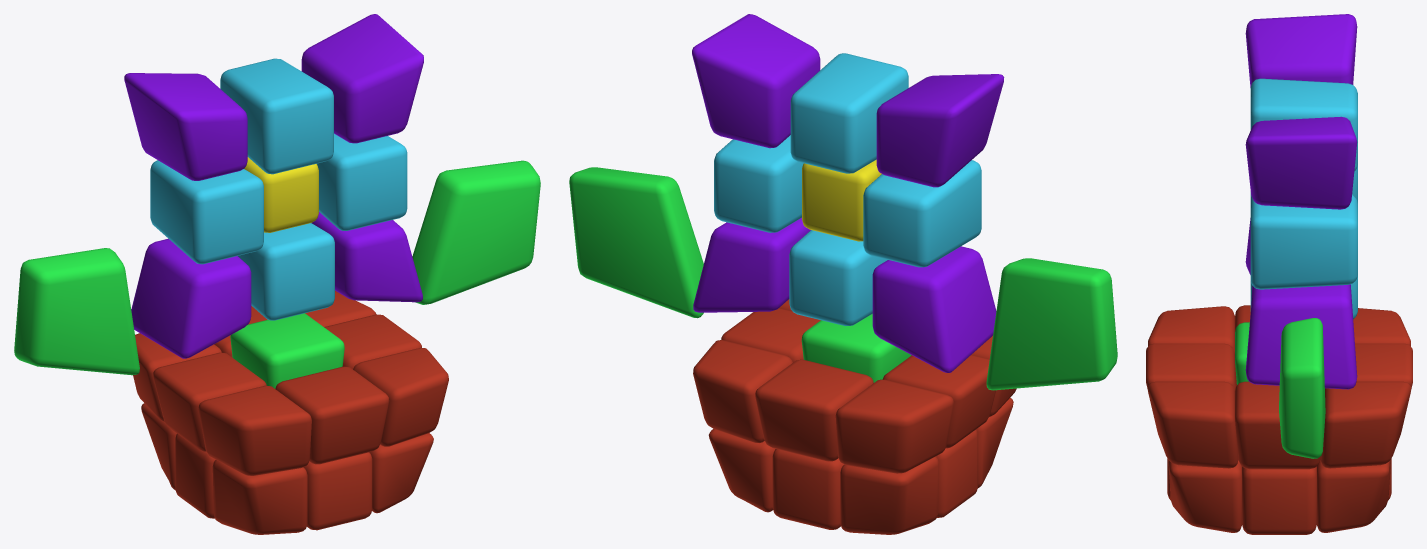
File: Flower1.fbx
3 views of the same model, side by side, from view 1: azimuth 30°, elevation 25°; view 2: azimuth 150°, elevation 25°; view 3: azimuth 270°, elevation 25° (orthographic). The views are drawn at different scales.
Parts seen in each view (by area): view 1: Leaf_Left, LeafRight, Cube.036, Cube.034, Cube.035, Cube.030, Cube.029, Cube.026, Cube.031, Cube.020, Cube.032, Cube.033 (+12 smaller); view 2: Leaf_Left, LeafRight, Cube.036, Cube.034, Cube.035, Cube.030, Cube.029, Cube.017, Cube.033, Cube.011, Cube.031, Cube.032 (+10 smaller); view 3: Cube.036, Cube.031, Cube.033, Cube.035, Cube.023, Cube.014, Leaf_Left, Cube.004, Cube.005, Cube.030, Cube.013, Cube.022 (+5 smaller).
Boxes of the visible parts, x1,y1,x2,y2 form: Leaf_Left: (412,160,540,304); LeafRight: (14,248,139,375); Cube.036: (301,14,423,143); Cube.034: (131,238,251,358); Cube.035: (124,73,247,180); Cube.030: (220,58,333,174); Cube.029: (150,160,263,264); Cube.026: (198,385,311,475); Cube.031: (317,133,407,230); Cube.020: (275,366,389,464); Cube.032: (238,223,334,320); Cube.033: (311,212,422,302); Leaf_Left: (569,167,703,318); LeafRight: (986,258,1117,390); Cube.036: (692,14,820,148); Cube.034: (872,246,996,372); Cube.035: (876,74,1004,187); Cube.030: (790,53,908,173); Cube.029: (863,160,981,267); Cube.017: (835,379,953,473); Cube.033: (693,218,810,312); Cube.011: (755,359,873,461); Cube.031: (714,135,803,232); Cube.032: (789,230,887,326); Cube.036: (1245,116,1357,209); Cube.031: (1250,195,1357,289); Cube.033: (1245,284,1357,389); Cube.035: (1245,14,1357,87); Cube.023: (1148,381,1238,468); Cube.014: (1320,381,1410,468); Leaf_Left: (1279,318,1325,458); Cube.004: (1242,466,1316,534); Cube.005: (1235,381,1320,469); Cube.030: (1250,78,1357,171); Cube.013: (1317,460,1390,532); Cube.022: (1168,460,1241,532).
Bounding box in the file's own units: 593 × 458 × 266.
